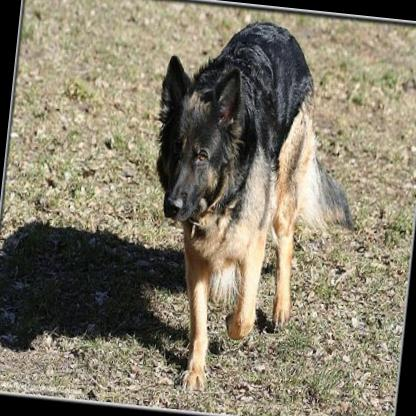German_shepherd: (130, 12, 374, 412)
